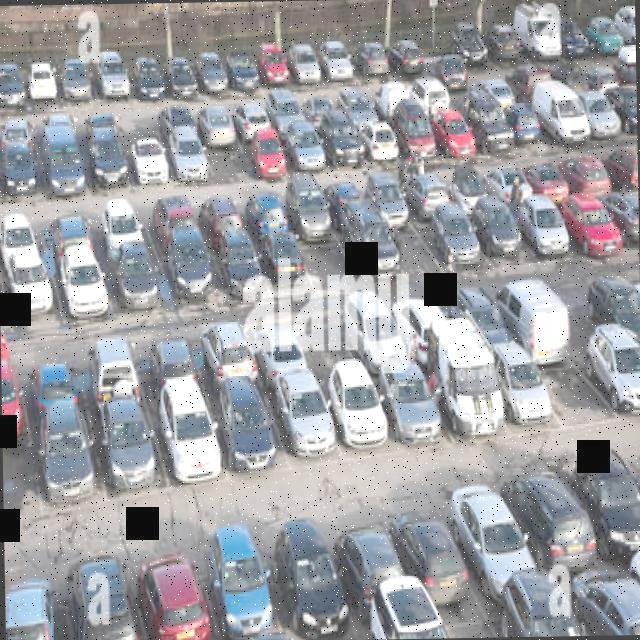car: (459, 482, 523, 606), (576, 444, 640, 557), (148, 398, 225, 491), (424, 354, 497, 450), (520, 466, 580, 582), (398, 505, 465, 608), (210, 392, 282, 486), (208, 539, 275, 640), (279, 527, 337, 640), (140, 547, 209, 640), (272, 371, 335, 471), (103, 410, 169, 496), (33, 423, 99, 507), (341, 527, 397, 623), (480, 360, 547, 437), (378, 366, 440, 448), (70, 561, 133, 640), (325, 382, 388, 461), (578, 343, 640, 416), (490, 292, 558, 358), (558, 193, 621, 264), (83, 339, 146, 407), (513, 197, 571, 269), (20, 364, 85, 428), (348, 296, 409, 364), (106, 250, 162, 322), (397, 296, 462, 358), (248, 320, 308, 386), (196, 326, 256, 392), (143, 339, 204, 403), (4, 256, 58, 328), (460, 290, 518, 356), (54, 254, 108, 324), (4, 578, 61, 640), (470, 204, 525, 268), (343, 218, 398, 280), (148, 194, 203, 256), (422, 216, 483, 270), (210, 233, 262, 295), (162, 236, 210, 302), (258, 230, 310, 288), (92, 204, 144, 259), (599, 282, 640, 350), (41, 210, 92, 264), (578, 88, 622, 150), (285, 179, 331, 238), (367, 172, 410, 235), (278, 122, 322, 182), (164, 130, 212, 184), (199, 194, 248, 246), (322, 180, 366, 236), (434, 108, 478, 164), (84, 144, 134, 192), (444, 171, 487, 224), (526, 154, 568, 208), (398, 112, 440, 166), (402, 172, 446, 222), (564, 150, 608, 200), (356, 116, 400, 166), (40, 144, 82, 196), (473, 107, 514, 160), (0, 211, 35, 273), (546, 92, 586, 146), (124, 138, 173, 182), (252, 186, 290, 240), (506, 100, 546, 151), (24, 59, 62, 112), (607, 195, 639, 257), (1, 364, 26, 440), (488, 165, 531, 209), (371, 77, 414, 121), (247, 130, 282, 184), (581, 56, 622, 102), (35, 110, 80, 150), (288, 42, 324, 92), (94, 60, 129, 111), (226, 53, 262, 102), (256, 48, 292, 97), (78, 110, 122, 150), (512, 57, 553, 99), (130, 64, 172, 105), (321, 119, 356, 168), (321, 43, 356, 92), (390, 36, 425, 85), (236, 96, 271, 144), (450, 29, 488, 73), (413, 78, 452, 120), (517, 24, 560, 62), (266, 90, 301, 136), (161, 60, 196, 106), (0, 154, 40, 194), (334, 85, 373, 126), (0, 117, 38, 159), (195, 102, 233, 144), (300, 90, 338, 132), (588, 15, 626, 57), (195, 56, 230, 100), (482, 68, 514, 114), (610, 143, 638, 195), (490, 21, 527, 59), (357, 42, 389, 84), (426, 44, 458, 84), (553, 22, 585, 62), (62, 65, 92, 106), (555, 61, 587, 99), (164, 104, 197, 139), (0, 65, 23, 113), (619, 84, 637, 140), (617, 50, 636, 90), (620, 11, 636, 50)
free: (536, 355, 602, 423), (551, 292, 603, 364), (302, 308, 356, 371), (2, 437, 42, 519), (384, 223, 436, 282), (302, 232, 348, 291), (204, 133, 246, 186), (442, 72, 486, 112), (122, 105, 161, 145)
